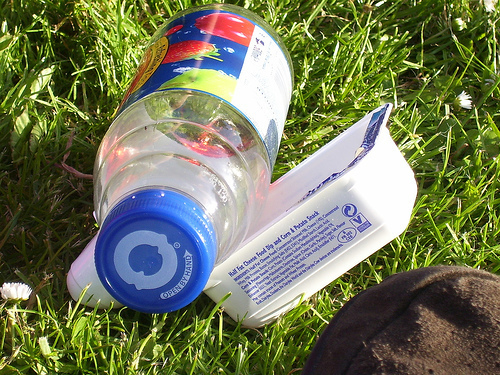litter: (64, 2, 417, 337)
